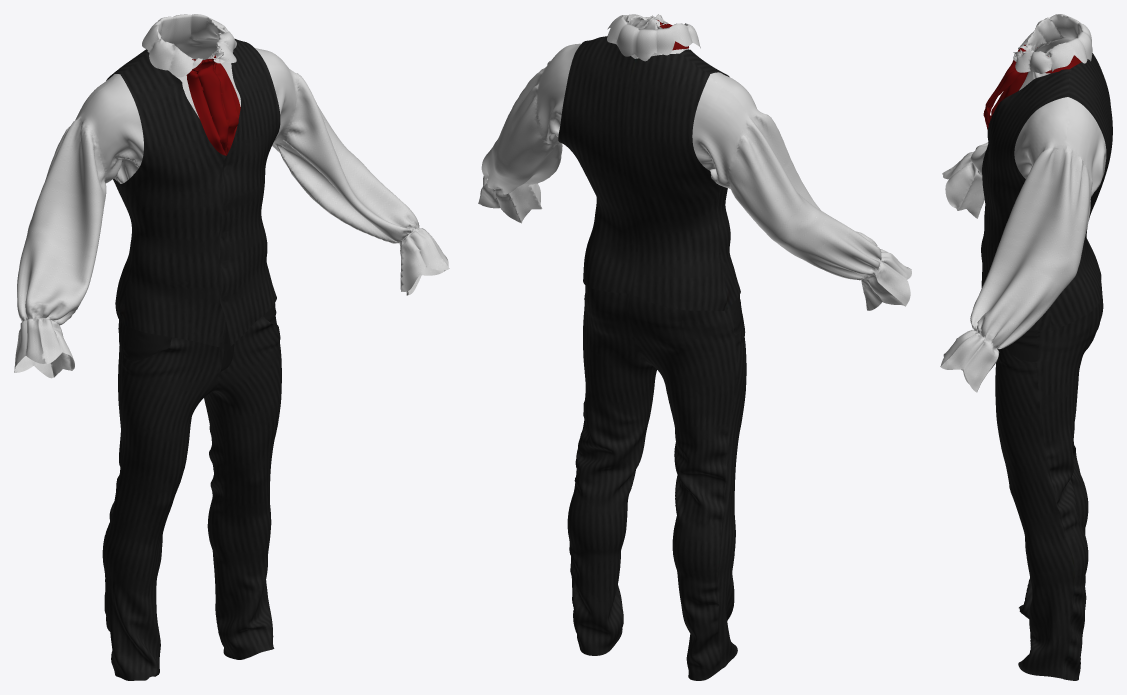
3 views of the same model, side by side, from view 1: azimuth 30°, elevation 25°; view 2: azimuth 150°, elevation 25°; view 3: azimuth 270°, elevation 25° (orthographic). The views are drawn at different scales.
Visible parts, largest first — view 1: defaultMaterial; view 2: defaultMaterial; view 3: defaultMaterial.
Part boxes in pixels (<box>): defaultMaterial: <box>14,14,449,680</box>; defaultMaterial: <box>478,14,911,680</box>; defaultMaterial: <box>940,14,1112,680</box>.
Size of the model in its own units: 1.07 by 1.53 by 0.3813.
Materials: 1 (1 with a texture image).
